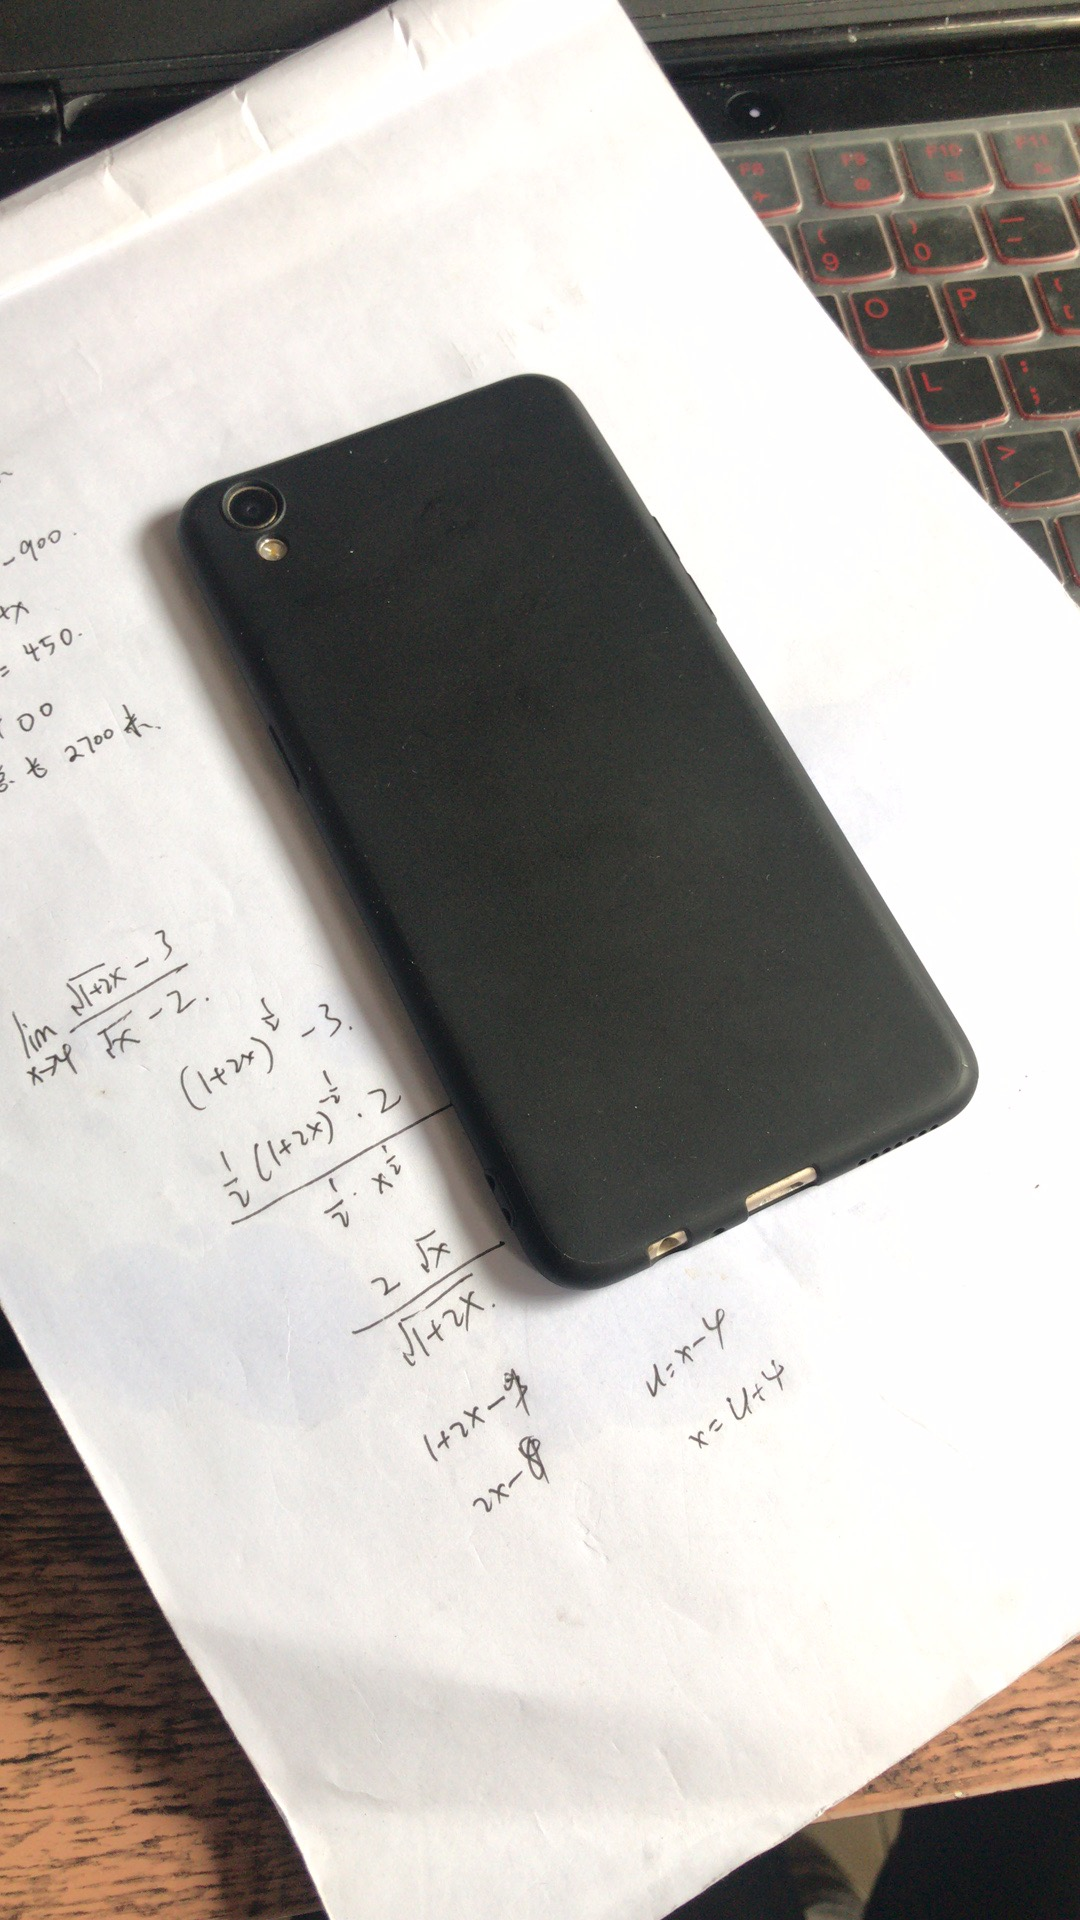phone: (157, 363, 1014, 1312)
